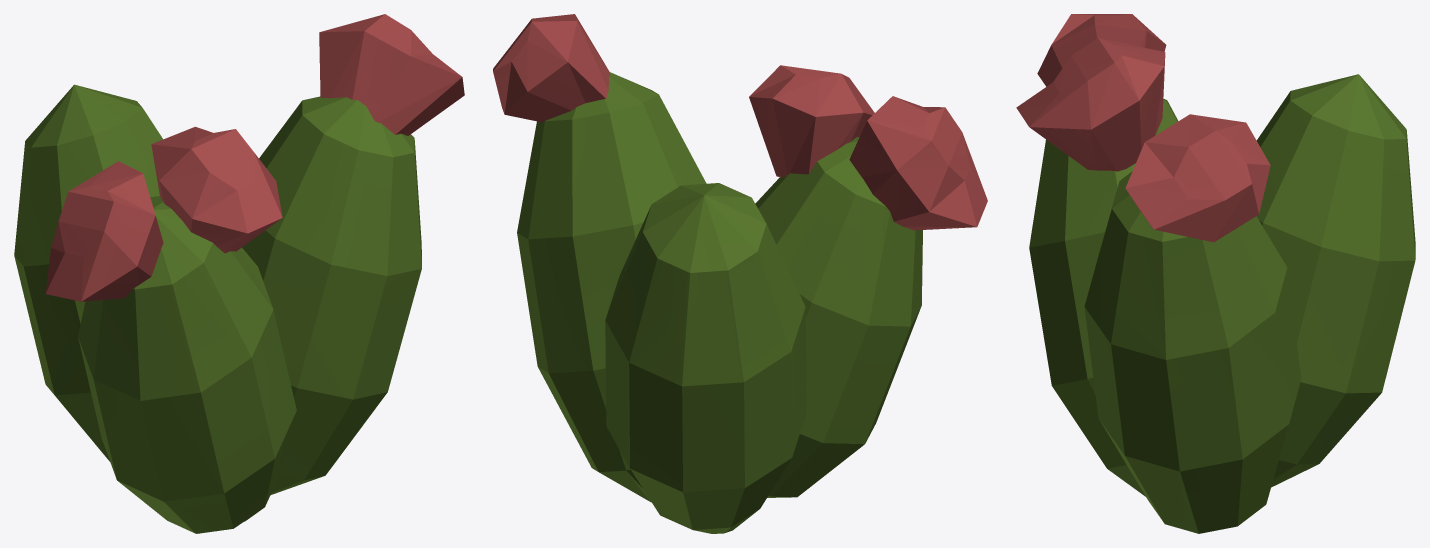
File: Desert_plant_016.glb
The picture shows the model from 3 angles, left to right: view 1: azimuth 30°, elevation 25°; view 2: azimuth 150°, elevation 25°; view 3: azimuth 270°, elevation 25°; orthographic projection. The views are drawn at different scales.
Parts seen in each view (by area): view 1: Desert_plant_016; view 2: Desert_plant_016; view 3: Desert_plant_016.
Part boxes in pixels (bbox=[...]): Desert_plant_016: bbox=[14, 14, 464, 533]; Desert_plant_016: bbox=[493, 14, 987, 533]; Desert_plant_016: bbox=[1016, 14, 1415, 533].
Size of the model in its own units: 0.5937 by 0.5712 by 0.4524.
Materials: 1 (1 with a texture image).
